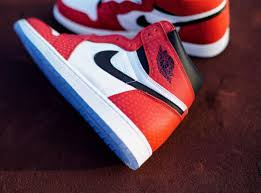Air Jordan 1 Spiderman: (8, 9, 207, 178)
